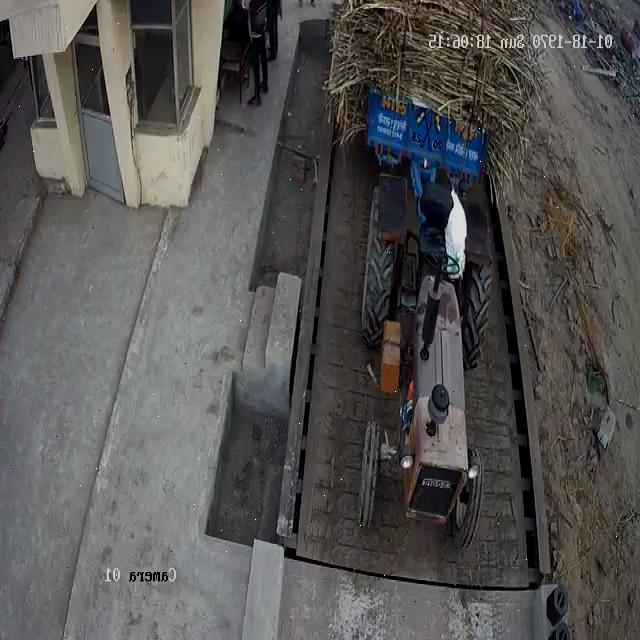Tratores - v5 YOLO V8L 2024-11-13: (346, 179, 494, 553)
